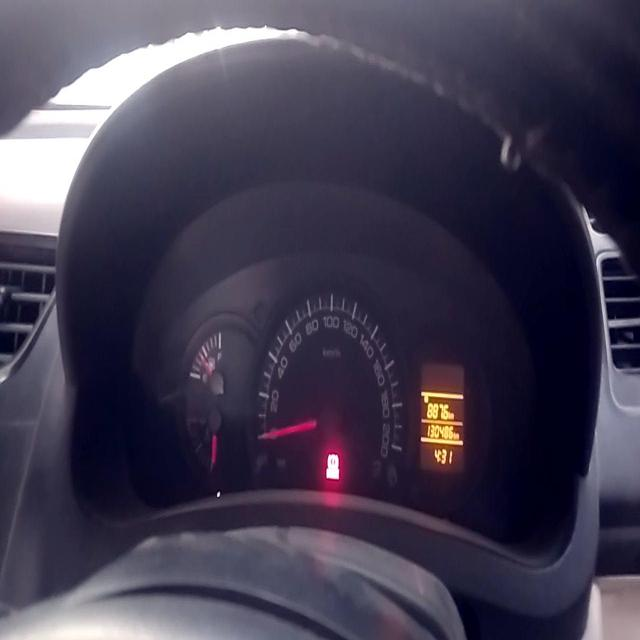odometer: (425, 420, 454, 442)
